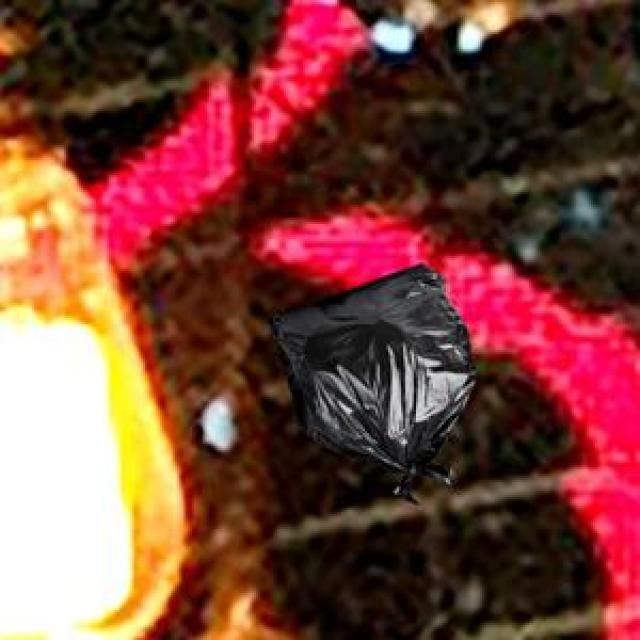miscellaneous trash: (262, 260, 472, 501)
